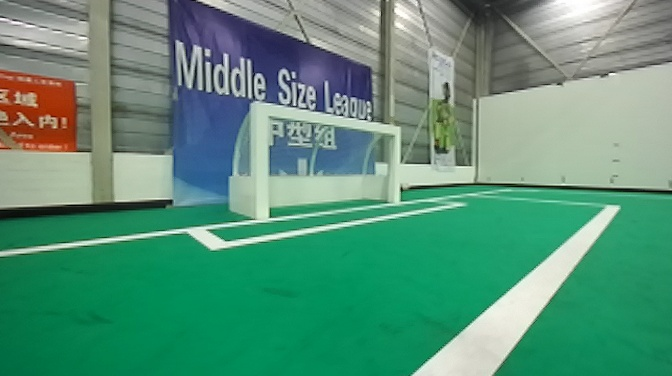ball: (395, 179, 411, 194)
goalpost: (245, 94, 278, 229), (379, 113, 409, 213)
